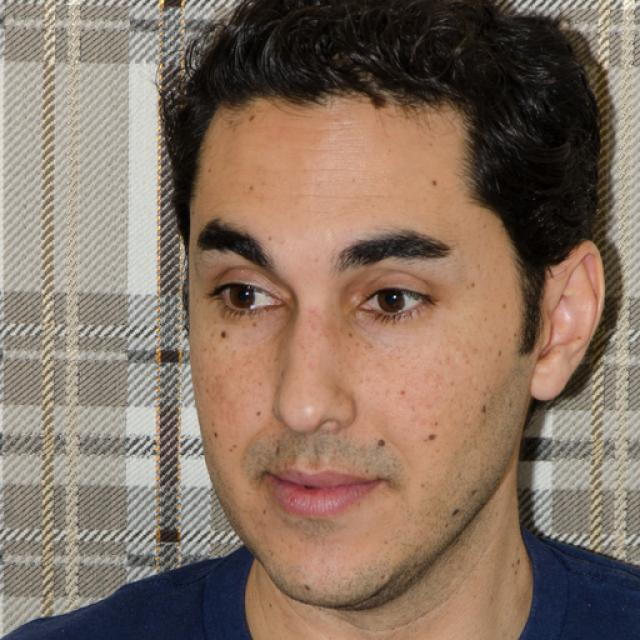content: (188, 88, 534, 606)
